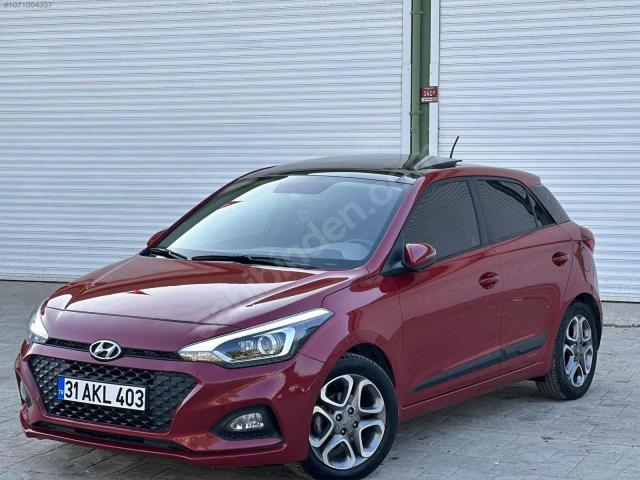plaka: (57, 376, 146, 411)
